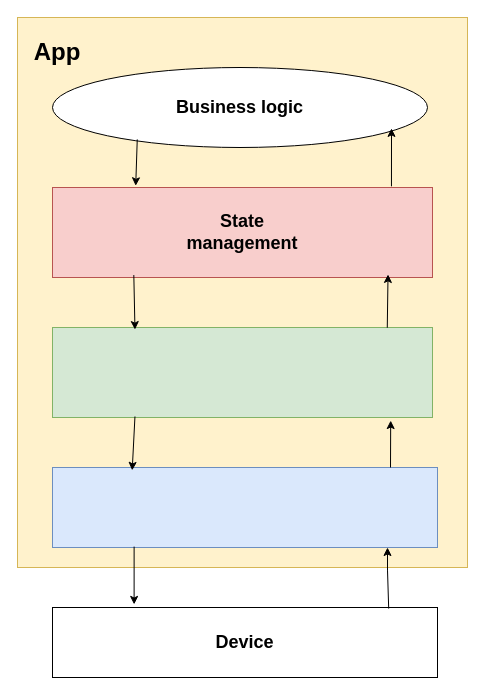
Some shapes in this 485 by 695 pixel diagram are drawn without their labels. Here are the shapes that lost their labels. From the top down, the centre of each, then its label:
At (x=242, y=372): "Order management".
At (x=245, y=507): "Communication layer".
